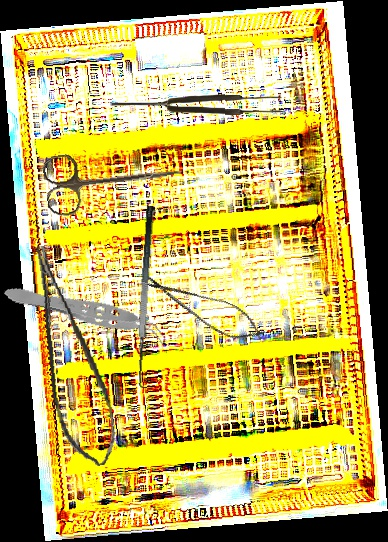Iris Scissors: (41, 138, 186, 219)
Micro Scissor: (28, 238, 123, 472), (139, 267, 270, 350)
Spatula Surgical: (130, 205, 170, 389)
Tissue Forceps: (0, 278, 173, 348), (109, 92, 283, 116)
